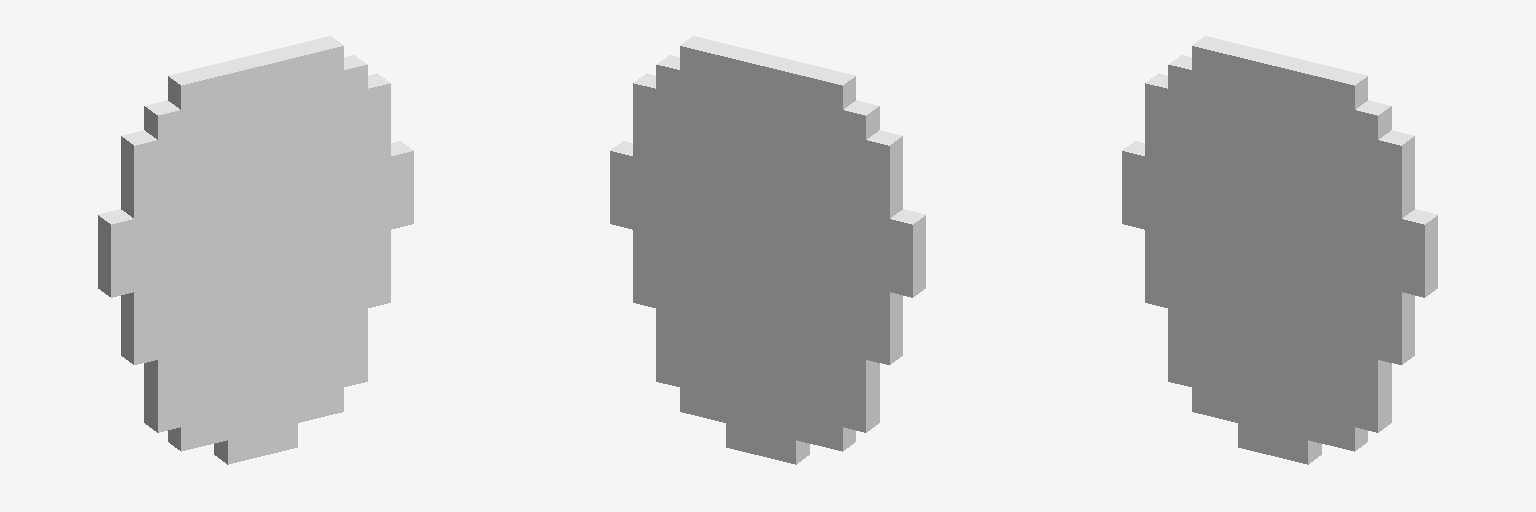
The model's file is Pew-Pew.obj.
3 renders of one model, left to right at view 1: azimuth 30°, elevation 25°; view 2: azimuth 150°, elevation 25°; view 3: azimuth 330°, elevation 25°, orthographic.
Bounding box in the file's own units: 13 × 16 × 1.